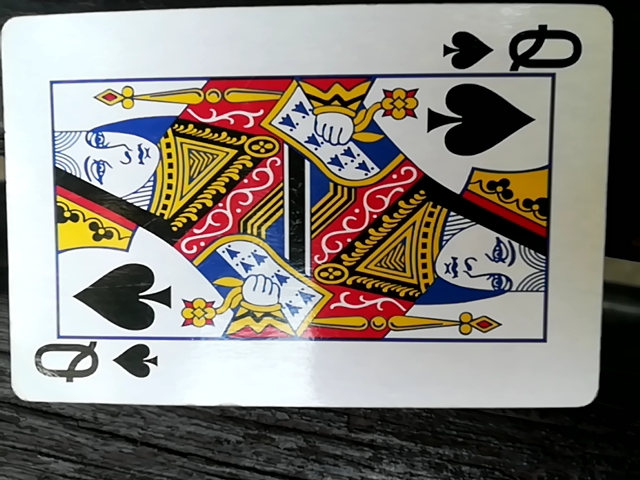ht q: (1, 8, 595, 426)
